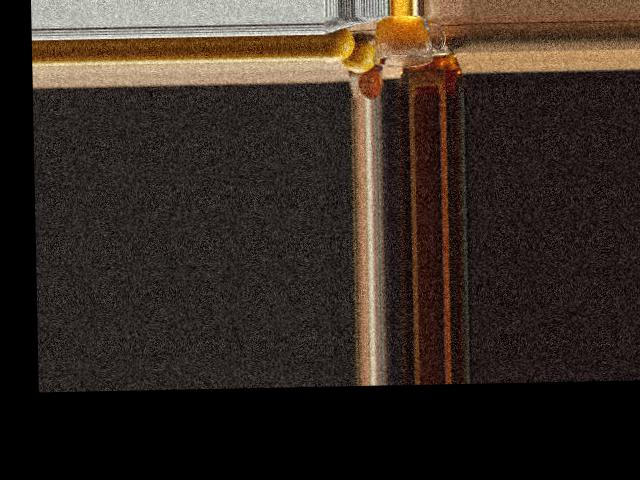lemon: (325, 29, 351, 58)
